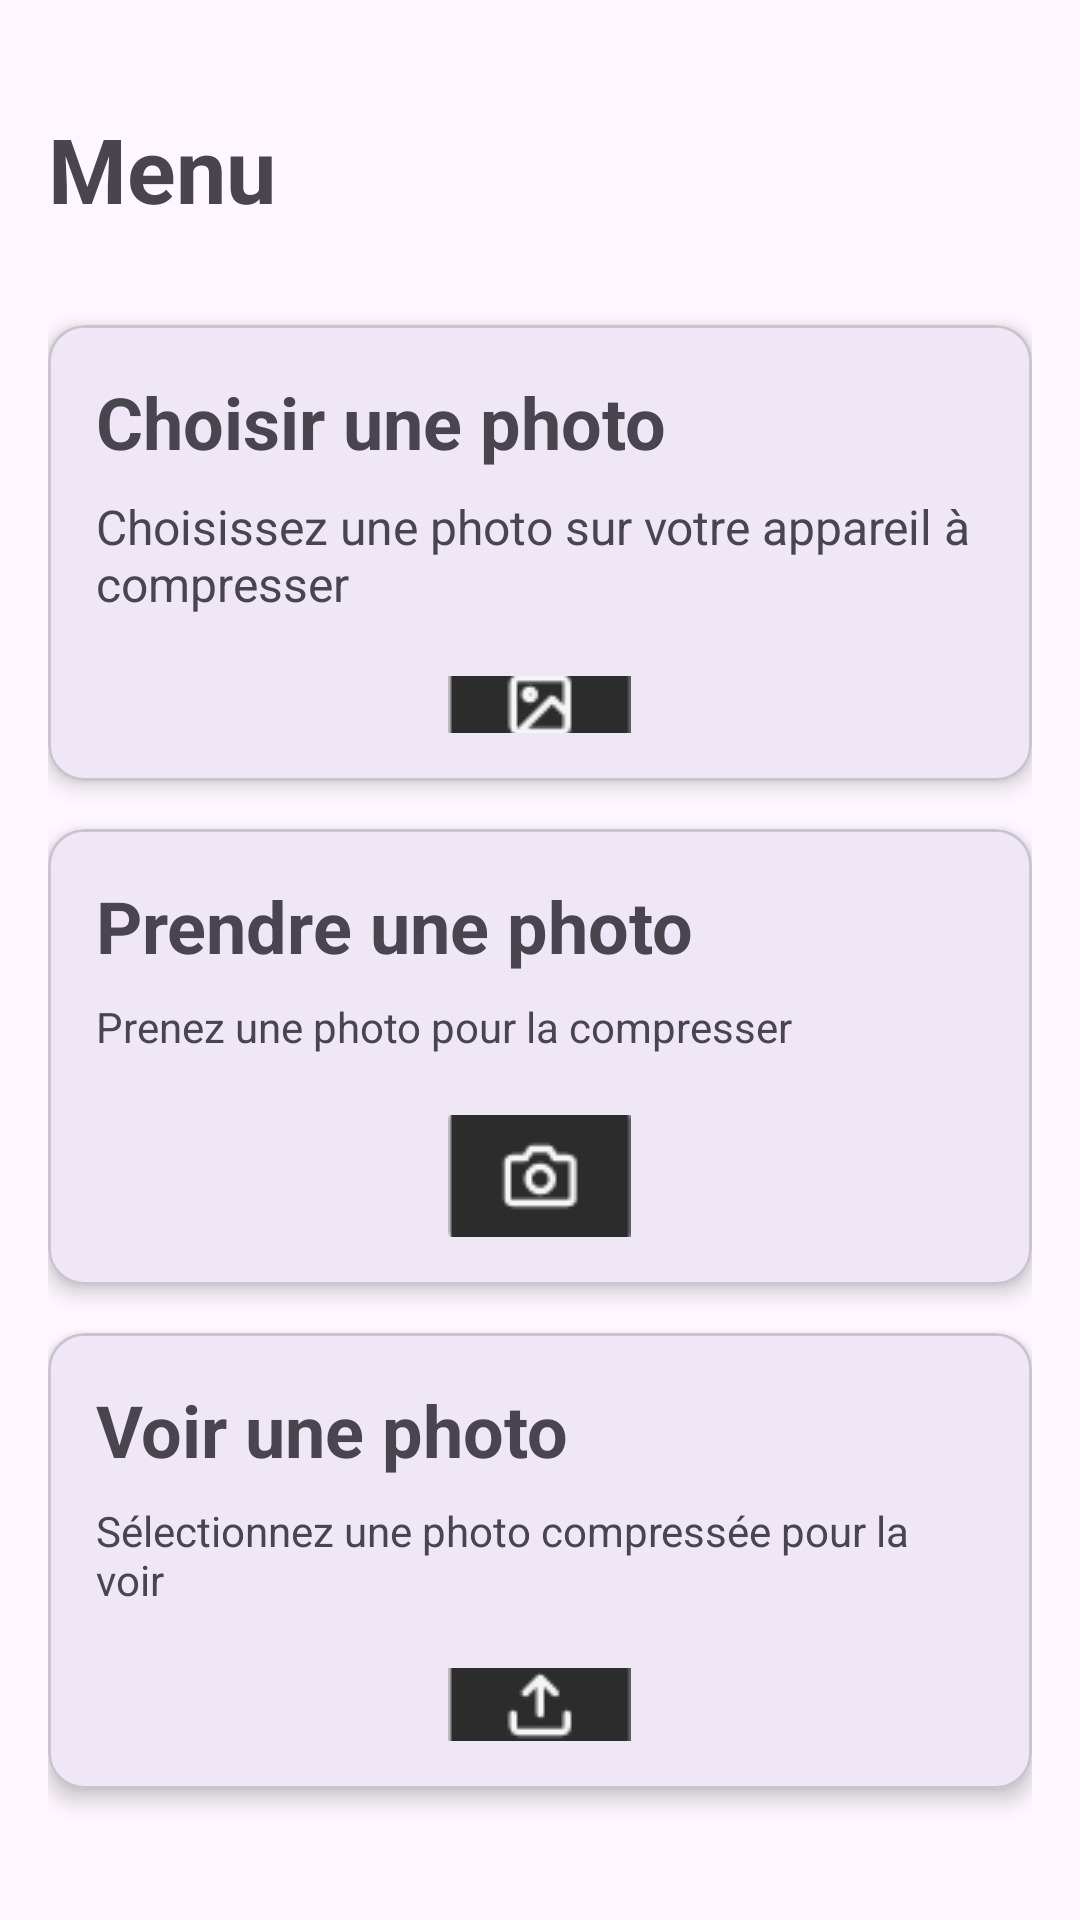

Icon bounding boxes for this 1080px×1920px phone screenshot, format (x1, y1, x2, y2):
Choisir une photo: (448, 676, 631, 733)
